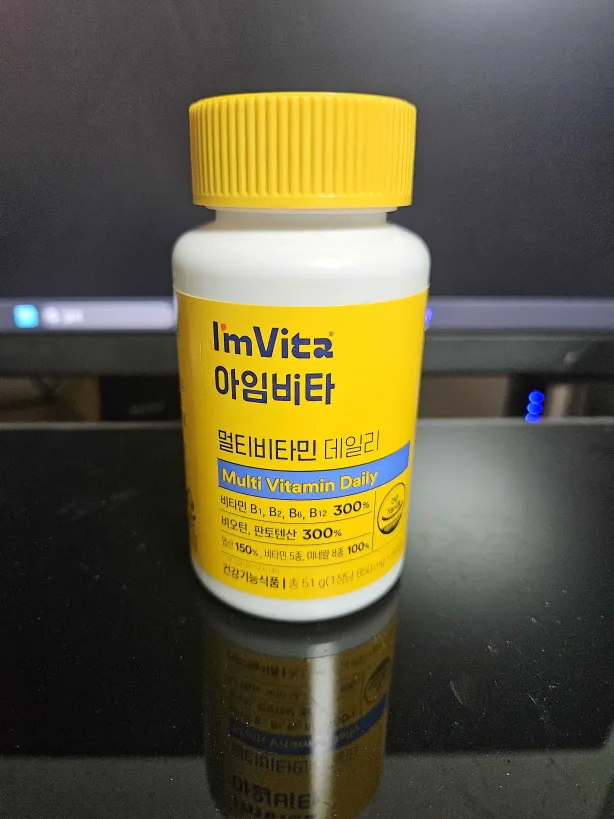supplement_label: (172, 281, 430, 603)
